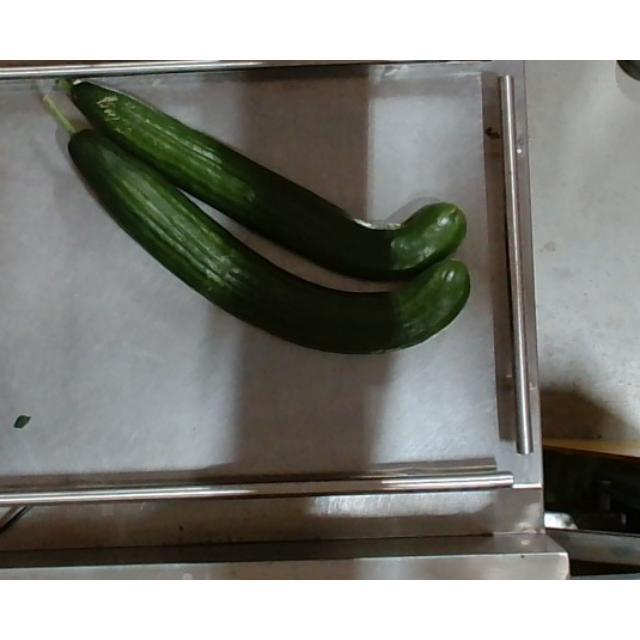cucumber: (39, 94, 471, 356), (54, 80, 468, 286)
